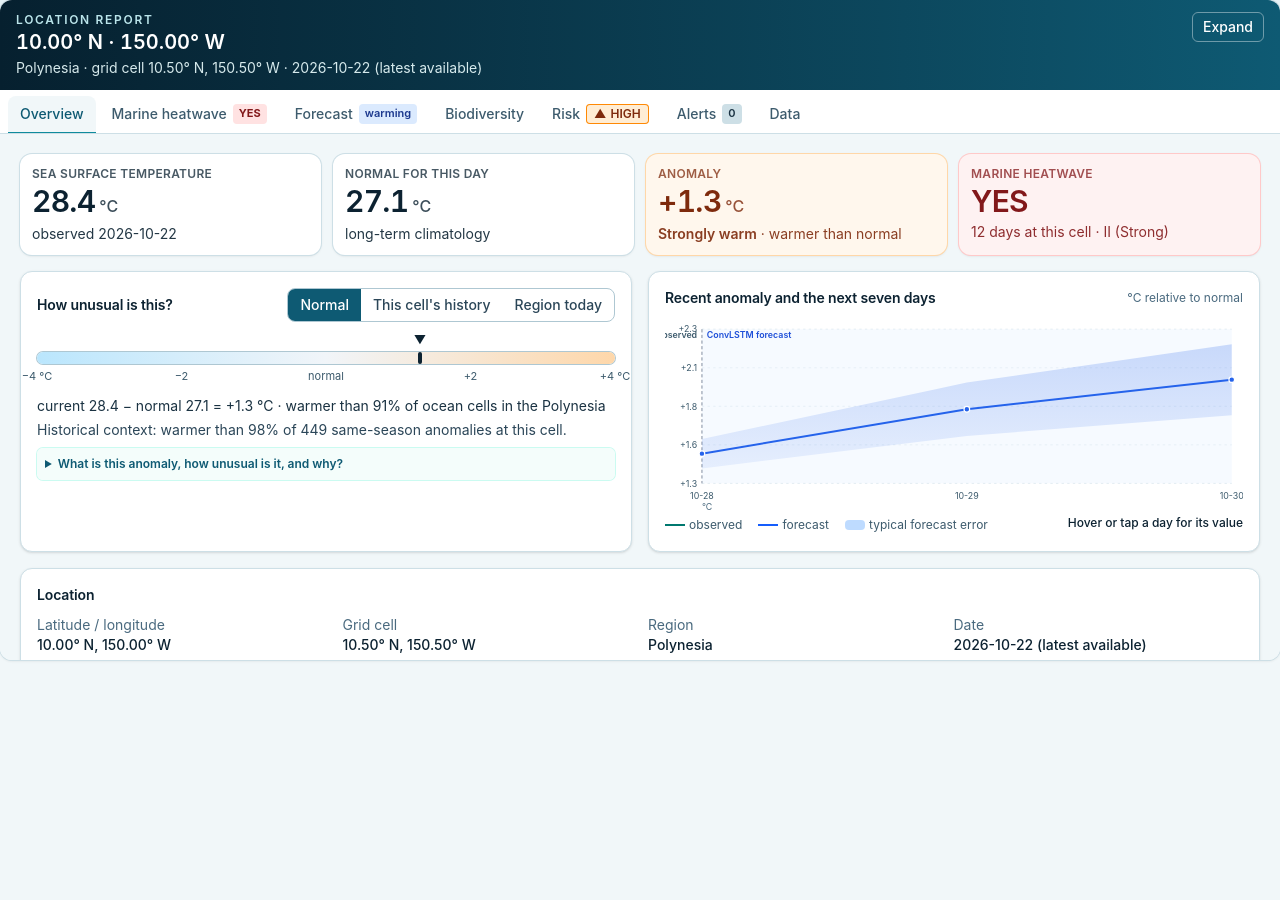
Explainable AI panel › shows the actual model inputs: dates, latest values, trends, grid and channels
Click the tab "Forecast warming" at (356, 115), box [283,96,429,134]
(page scrolled)
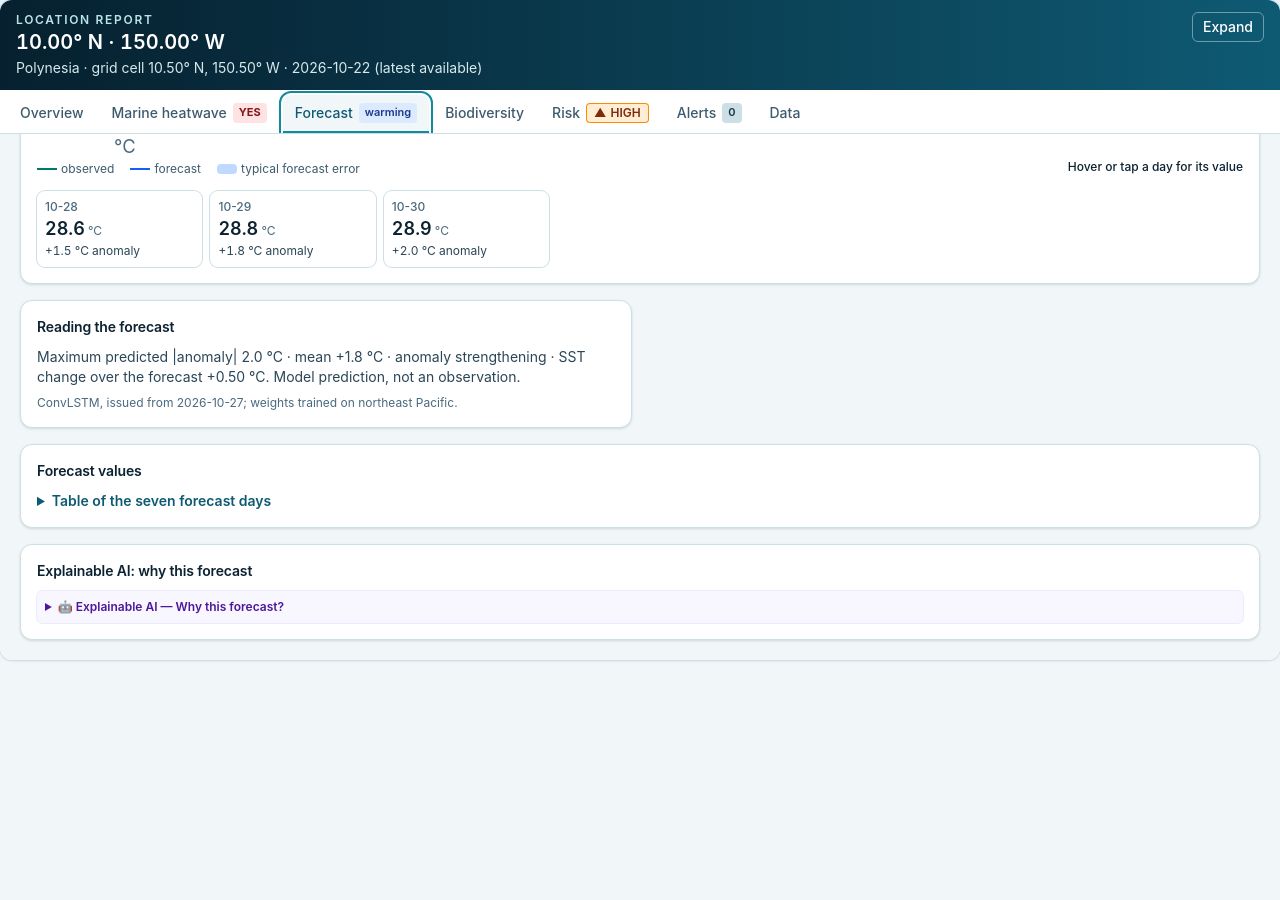
Click the heading "🤖 Explainable AI — Why this forecast?" at (171, 606), box [58,599,284,614]
(page scrolled)
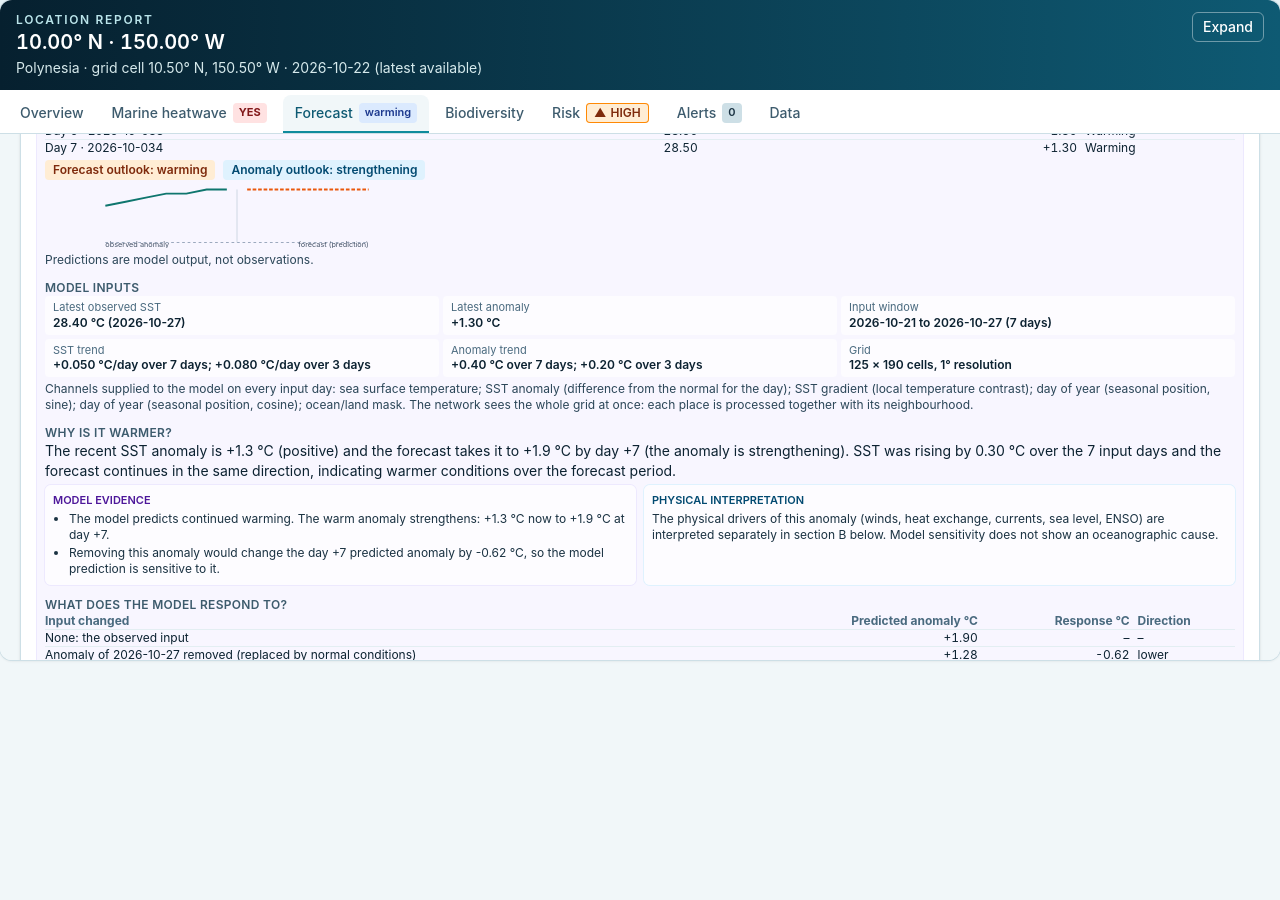
Expected: the element with test id "xai-model-inputs" shows "2026-10-21 to 2026-10-27 (7 days)", [849,315,1052,330]
Expected: the element with test id "xai-model-inputs" shows "28.40 °C (2026-10-27)", [53,315,186,330]
Expected: the element with test id "xai-model-inputs" shows "+0.050 °C/day over 7 days; +0.080 °C/day over 3 days", [53,357,371,372]
